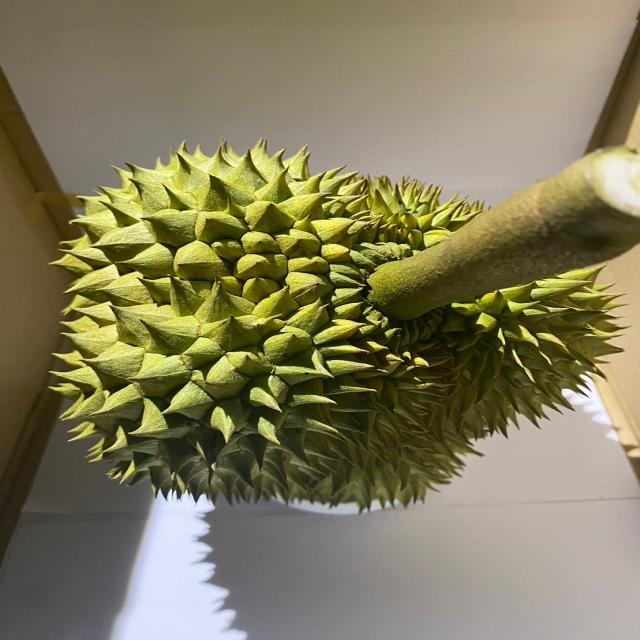immature: (44, 137, 628, 513)
